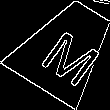M_NE: (30, 15, 101, 82)
